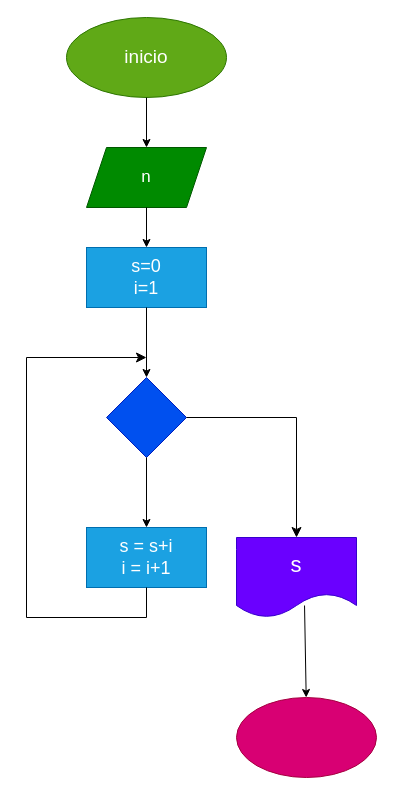
This 394x795 diagram has some shape labels left out. The centre of each missing label's shape, as x and y in pixels:
"fin" belongs at point 306,737.
"i <= n" belongs at point 146,417.
